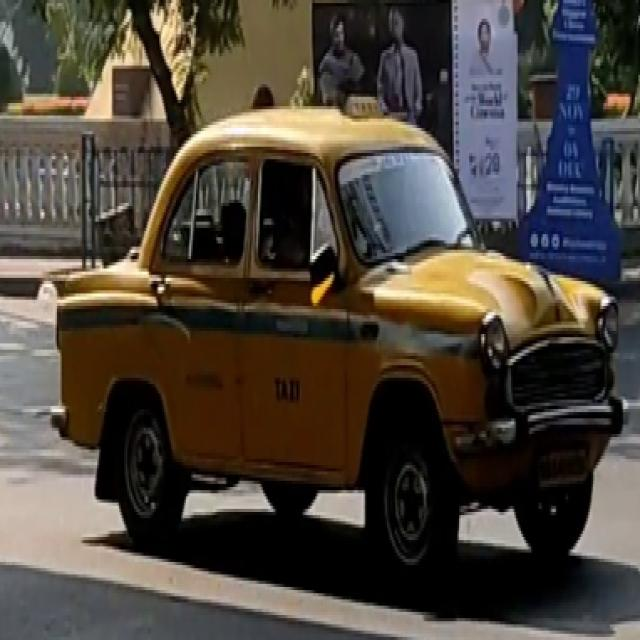ambasador_taxi: (69, 47, 625, 640)
